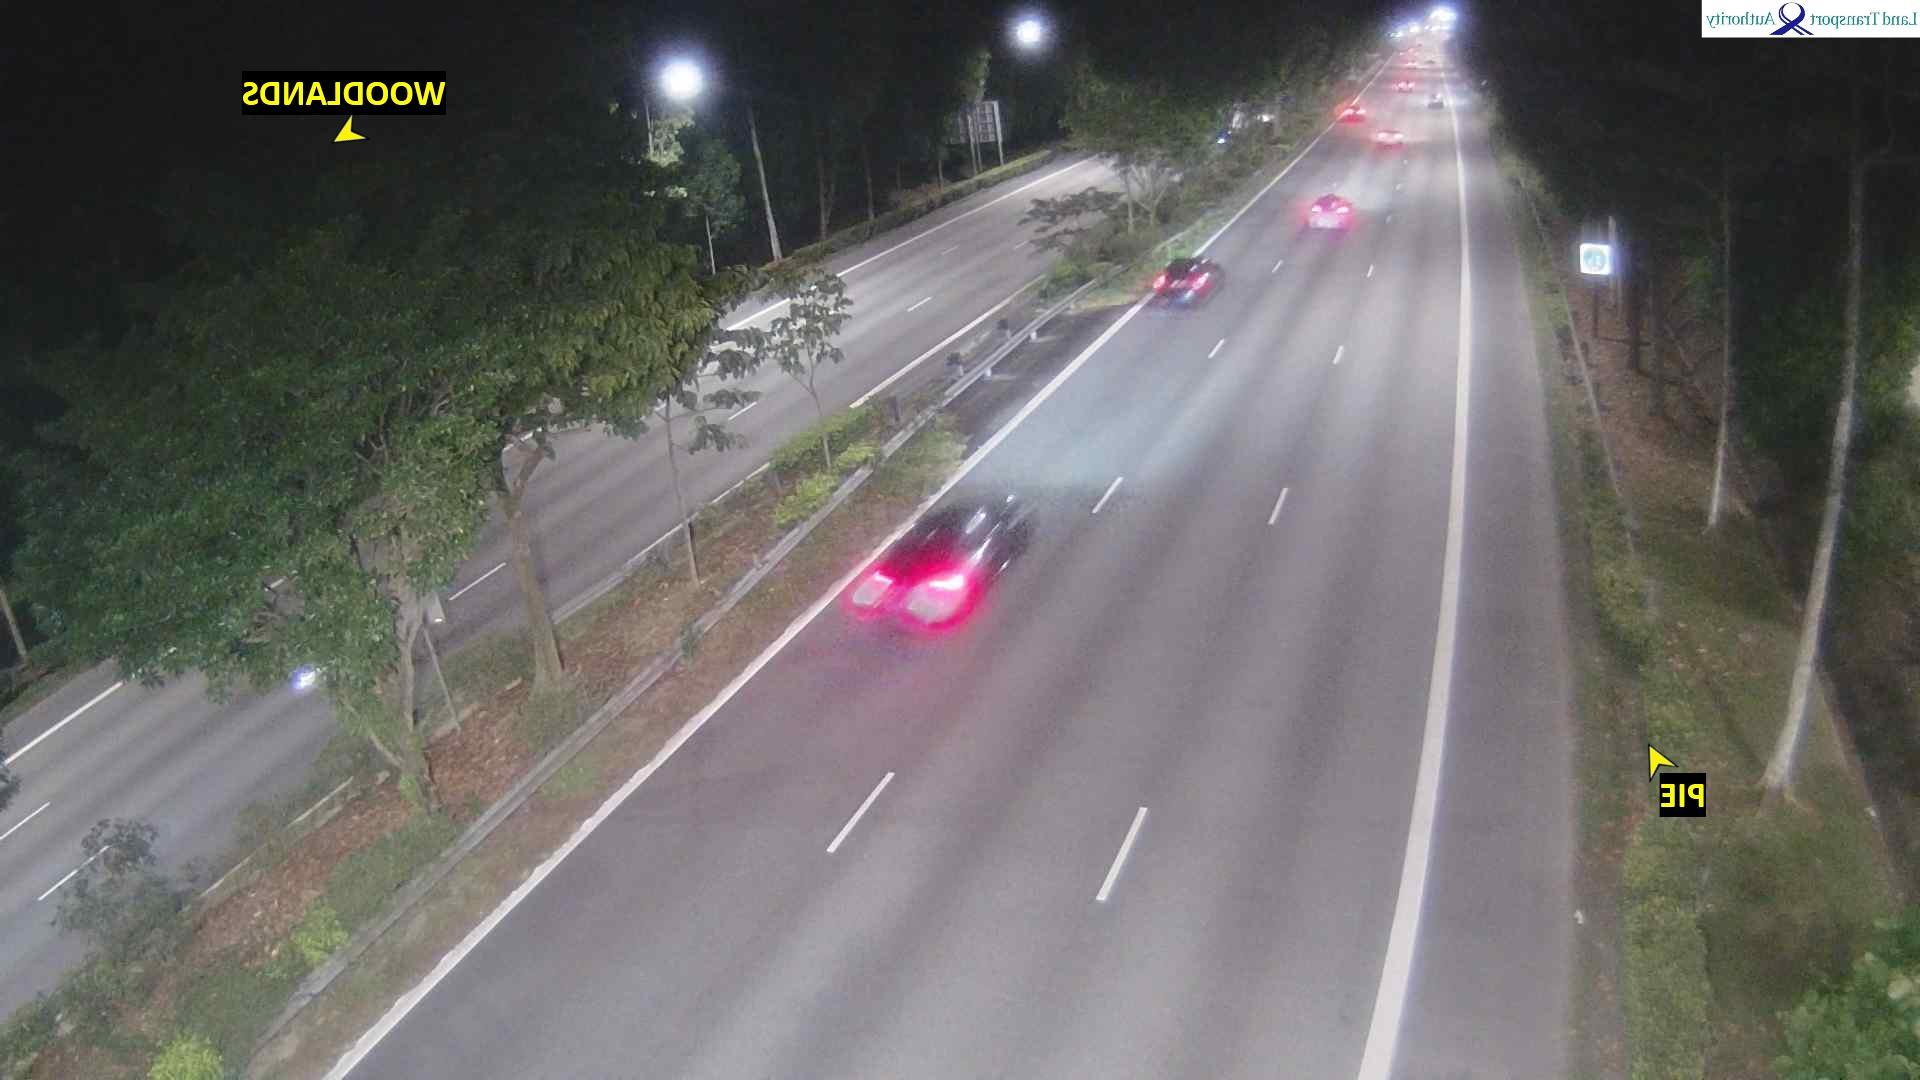cars: (850, 489, 1041, 635), (1153, 254, 1227, 308), (1308, 192, 1356, 230), (1427, 4, 1459, 34), (1390, 19, 1422, 45), (1374, 126, 1406, 149), (1337, 102, 1367, 122), (1404, 54, 1442, 69), (1394, 76, 1416, 92), (1427, 91, 1446, 107)
